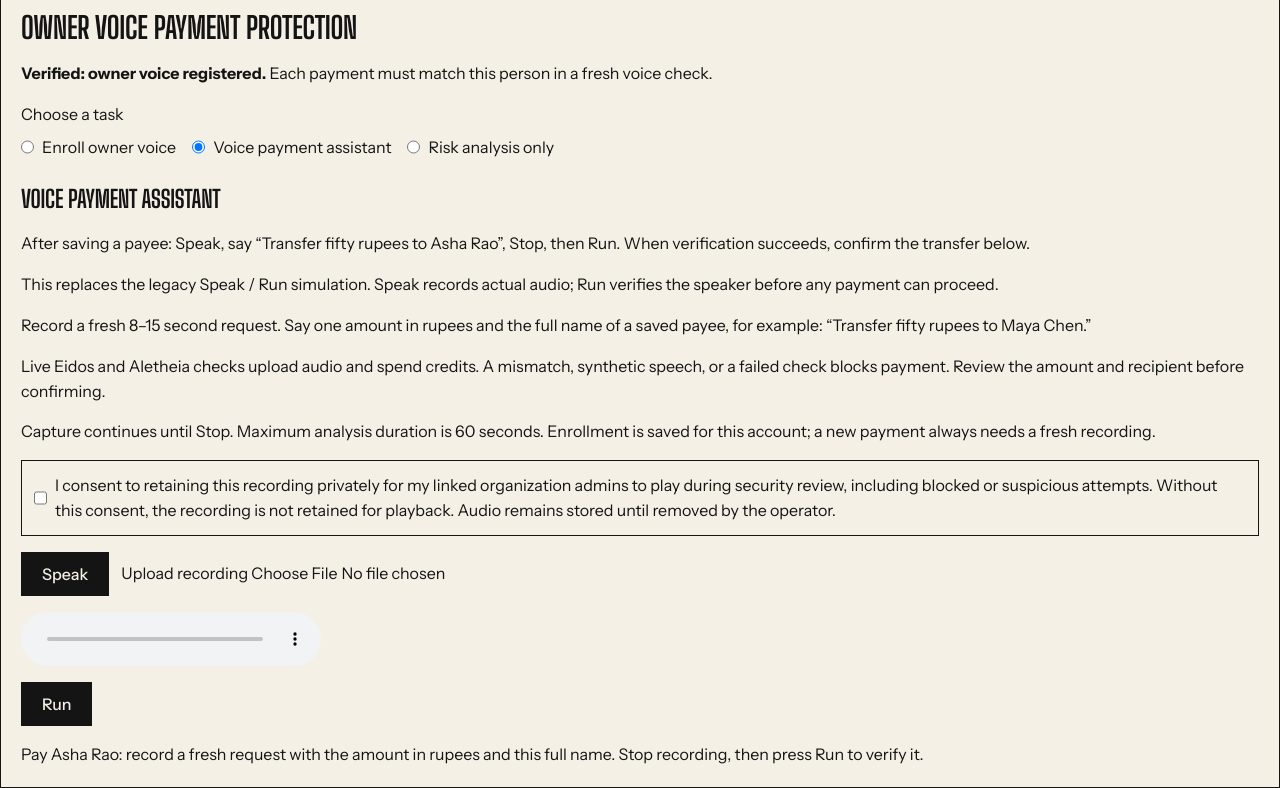
Test: takes a selected saved payee through verification and explicit transfer confirmation
The image size is (1280, 788).
Earlier steps of the test are not shown.
Expected: the text "Verified: owner voice registered." is shown, [21, 63, 266, 83]
Expected: the text "Pay Asha Rao: record a fresh request" is shown, [21, 744, 924, 764]
What coordinates should you click on to do the following:
click the button "Run"
I would click on:
 (57, 704)
Its box is [21, 682, 92, 726].
(page scrolled)
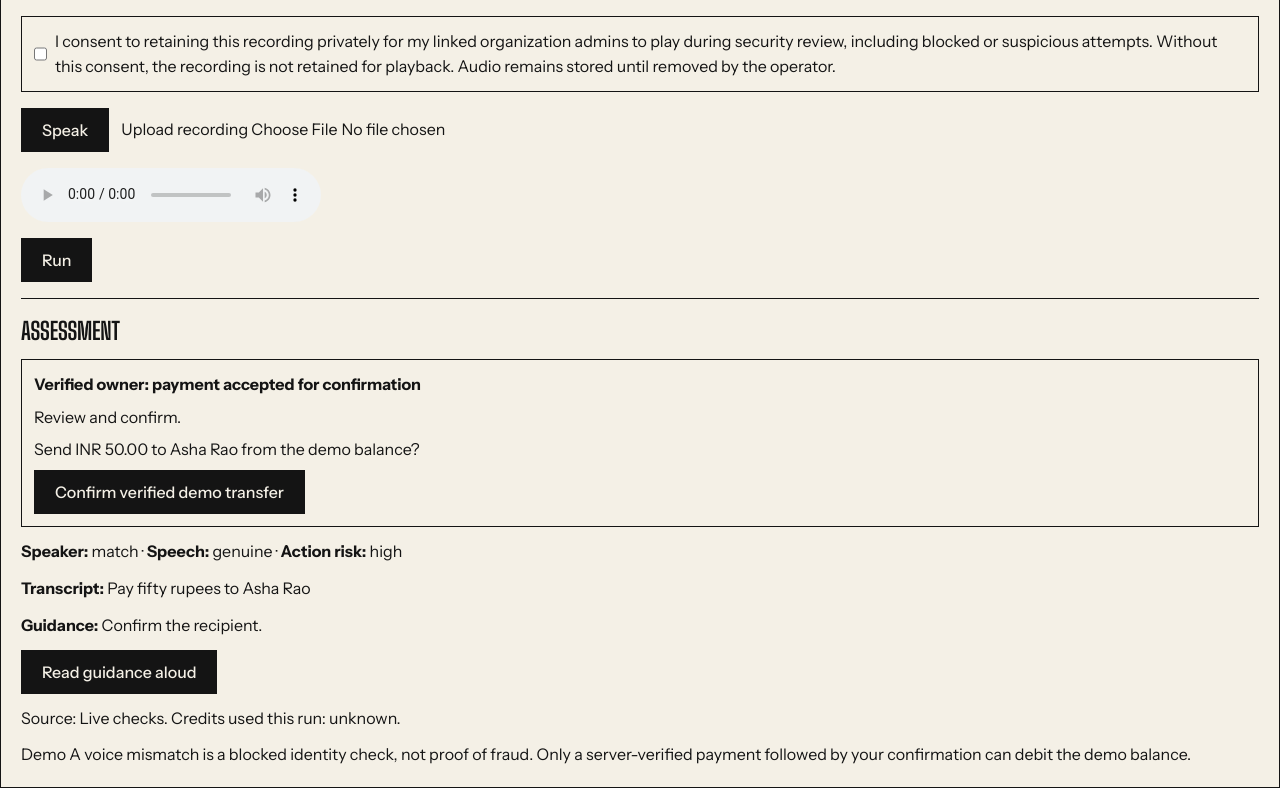
What coordinates should you click on to do the following:
click the button "Confirm verified demo transfer"
I would click on:
 (169, 492)
Its box is [34, 470, 305, 514].
(page scrolled)
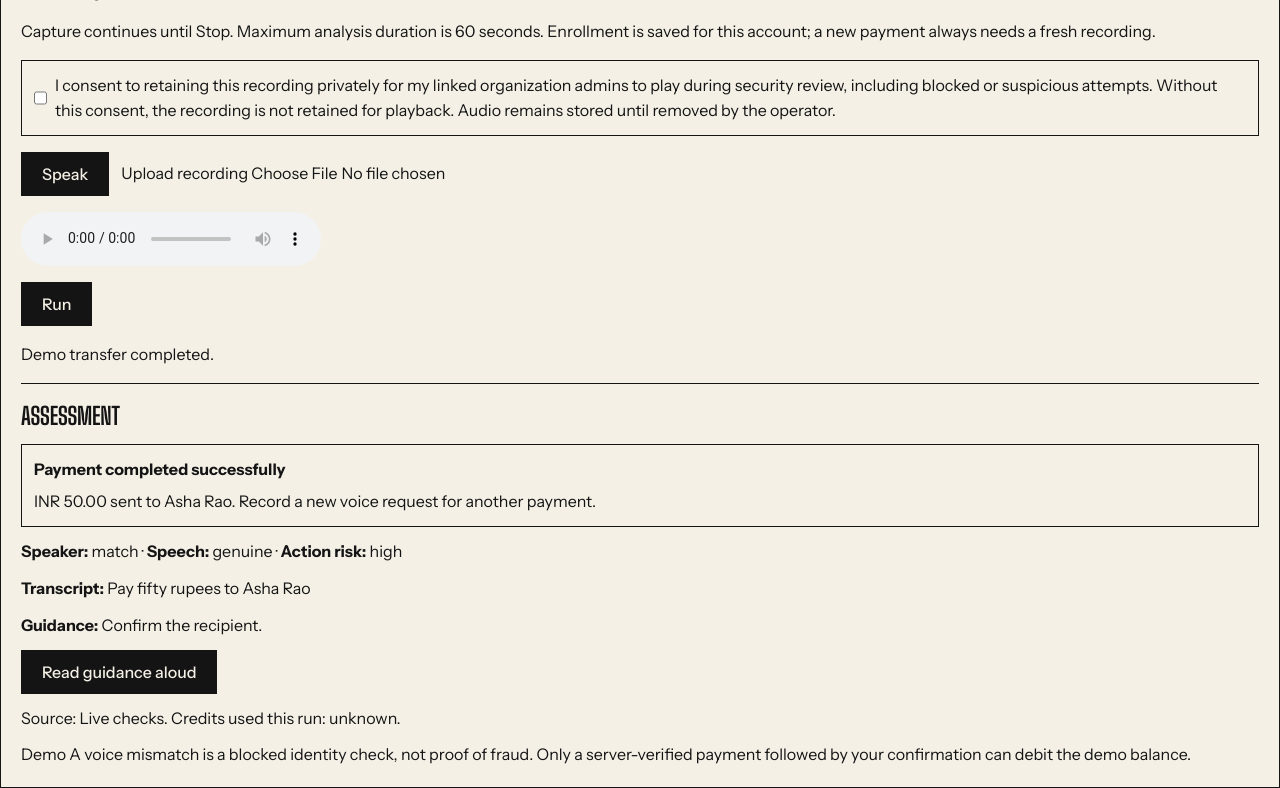
Result: the text "Demo transfer completed." is shown at [21, 344, 214, 364]
Result: the text "Payment completed successfully" is shown at [34, 459, 285, 479]
Result: the text "INR 50.00 sent to Asha Rao" is shown at [34, 491, 596, 511]
